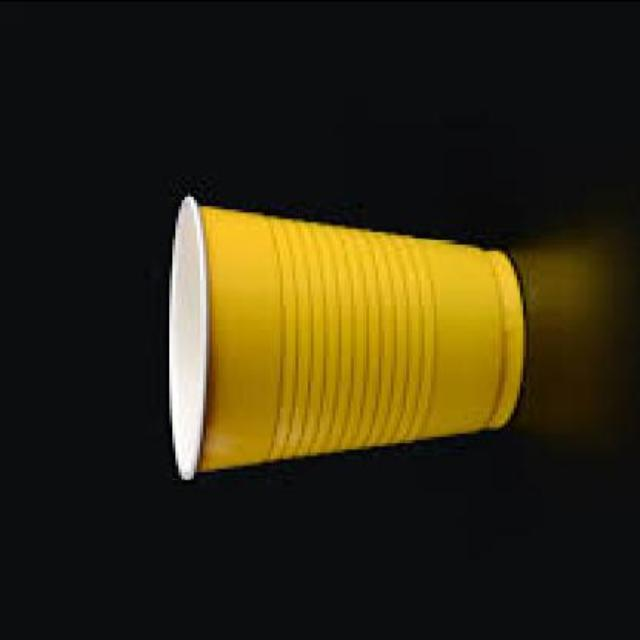plastic_cup: (170, 199, 532, 477)
